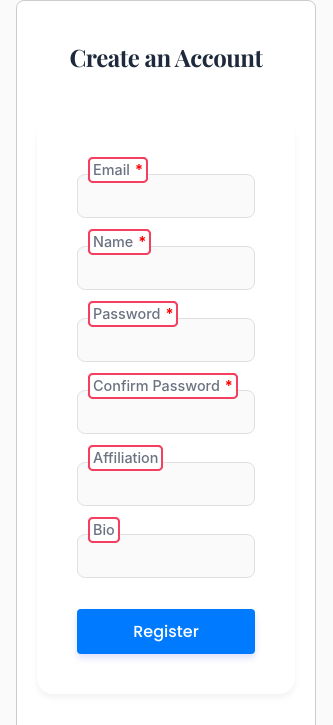
it: Register Component › Form Validation › should show error when passwords do not match
// Fill out the form with mismatched passwords
Type "test@example.com" into the 1st field named "email*".
click(166, 196); type("test@example.com")  # box [77,174,255,218]
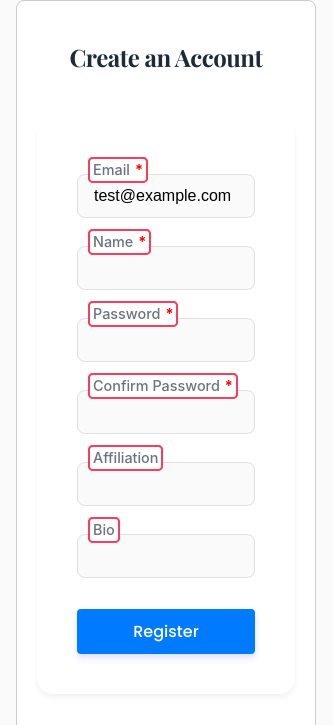
Type "Test User" into the 2nd field named "name*".
click(166, 268); type("Test User")  # box [77,246,255,290]
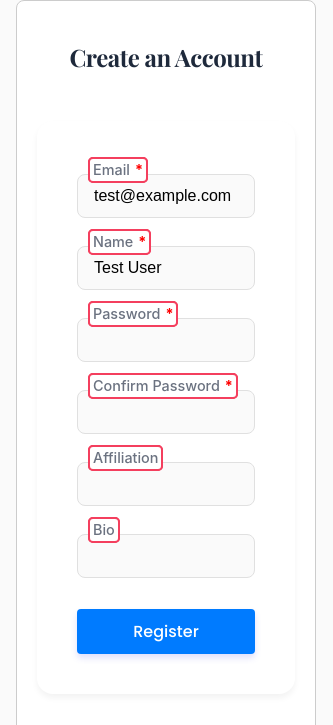
Type "password123" into the 1st password field named "password*".
click(166, 340); type("password123")  # box [77,318,255,362]
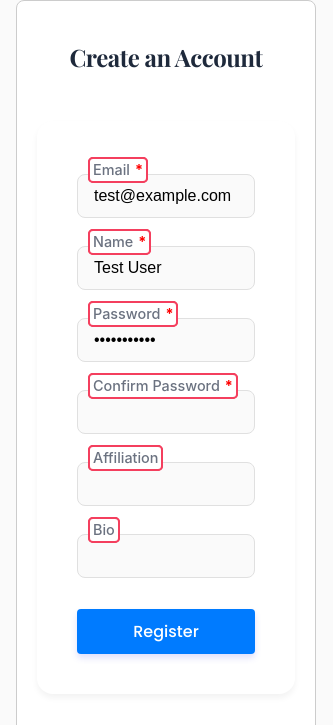
Type "password456" into the 2nd password field named "confirm password*".
click(166, 412); type("password456")  # box [77,390,255,434]
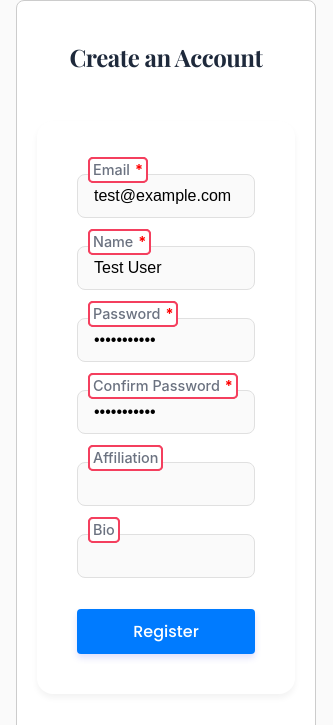
// Submit the form
Click the button "Register".
click(166, 631)  # box [77,609,255,654]
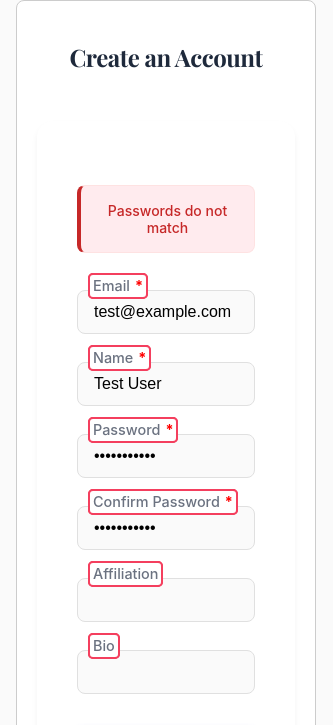
Expected: the text "Passwords do not match" is shown, [77,185,255,253]
